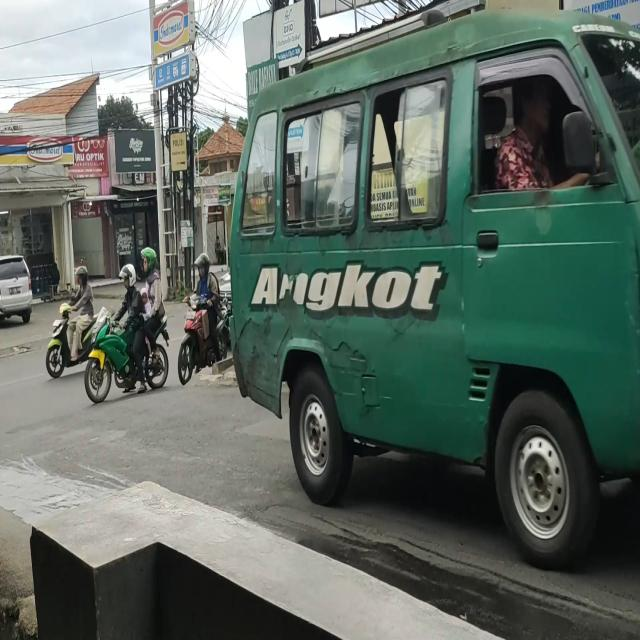helmet: (121, 266, 138, 292), (196, 257, 212, 282), (145, 247, 156, 273), (76, 268, 87, 286)
